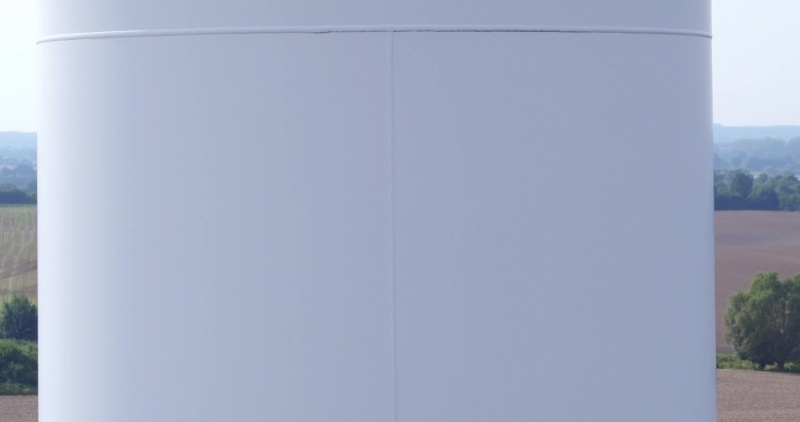weldseam: (35, 23, 714, 46), (379, 22, 401, 422)
